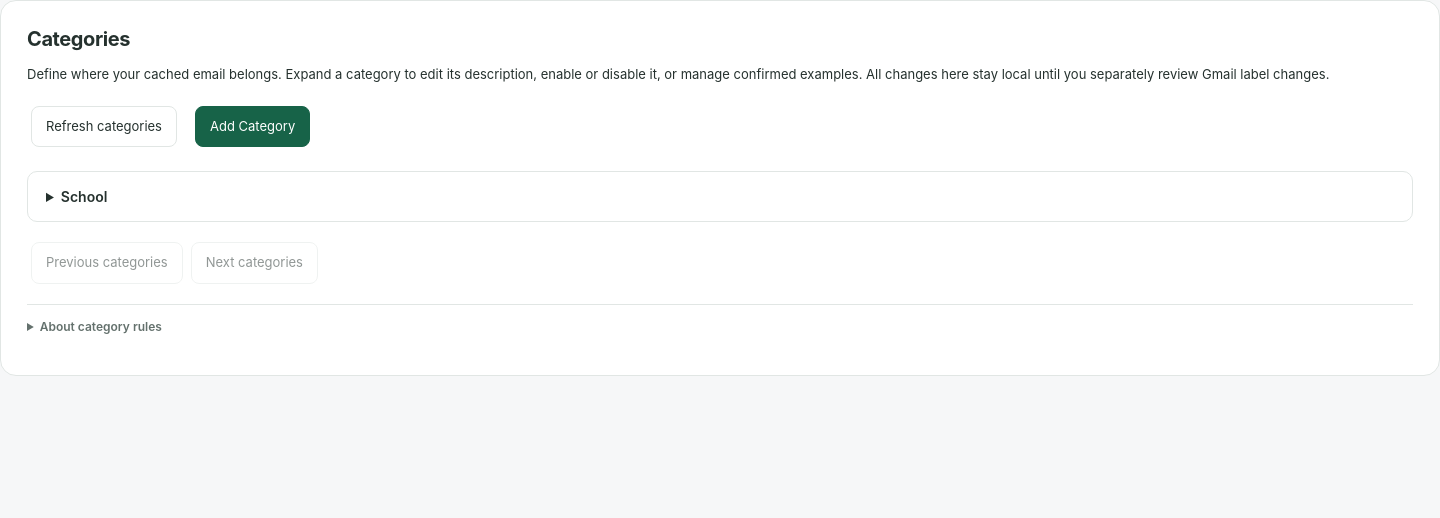
Test case: starts collapsed and reveals category editing and example controls only when expanded
The width and height of the screenshot is (1440, 518).
Expected: the text "Classes and academic deadlines." is not shown
Expected: the button "Edit School" is not shown
Click the heading "School": x=84, y=197 [61,188,107,205]
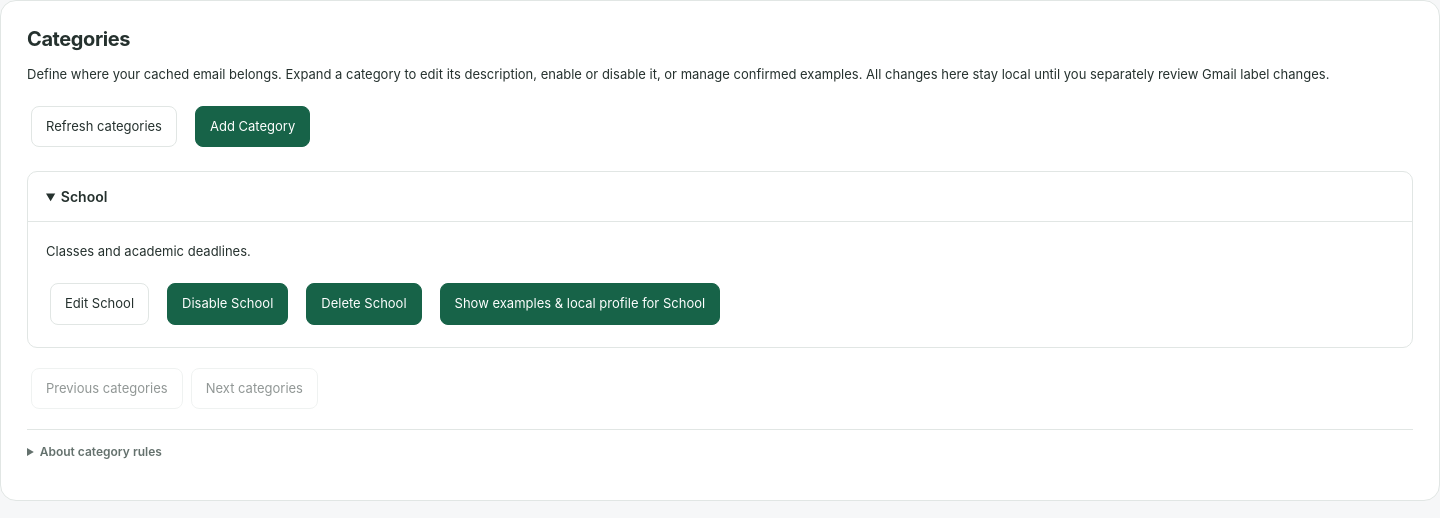
Expected: the text "Classes and academic deadlines." is shown, [46,243,251,259]
Expected: the button "Edit School" is shown, [50,283,149,324]
Expected: the button "Show examples & local profile for School" is shown, [440,283,720,324]
Click the heading "School": x=84, y=197 [28,172,1412,222]
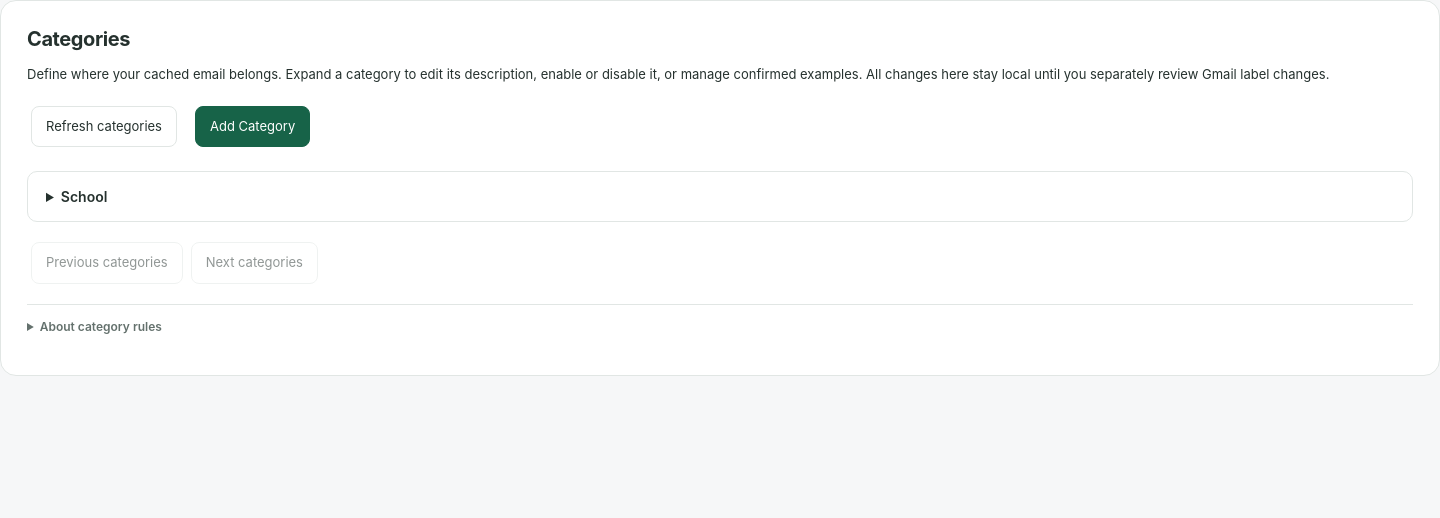
Expected: the button "Delete School" is gone
